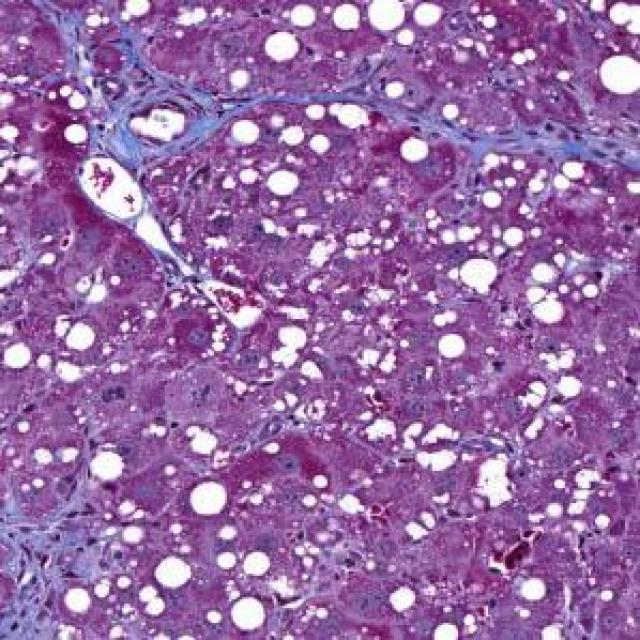fibrosis: (66, 60, 232, 184)
